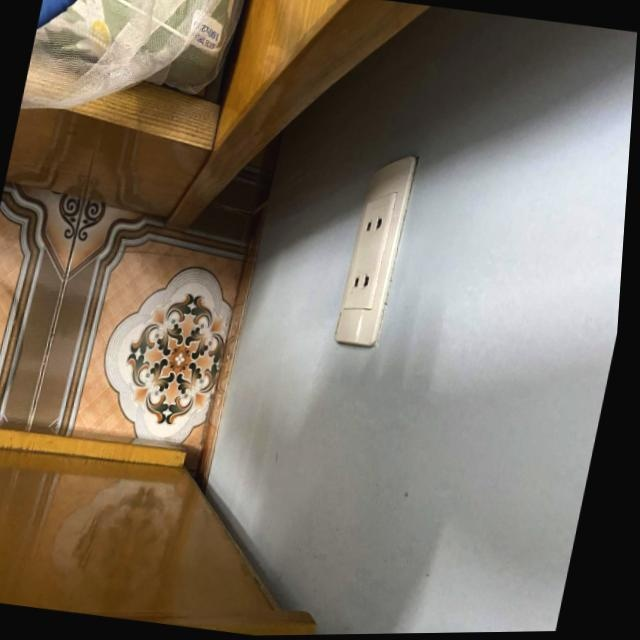outlet: (331, 150, 419, 350)
